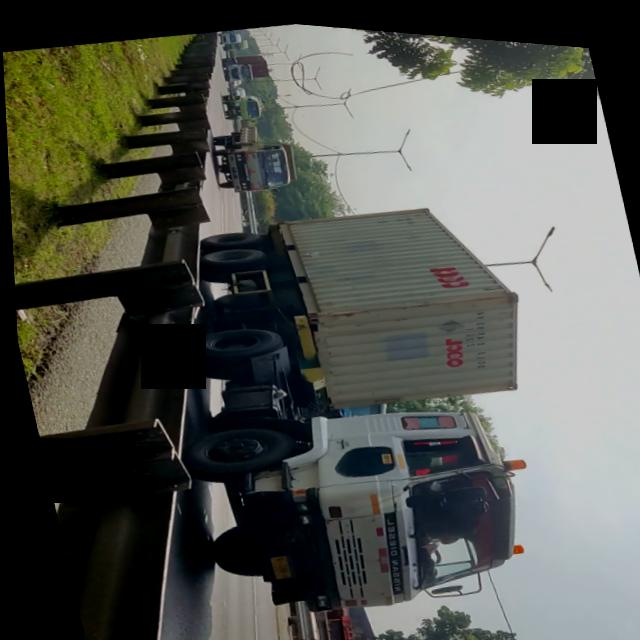Golongan IV: (127, 171, 551, 640)
